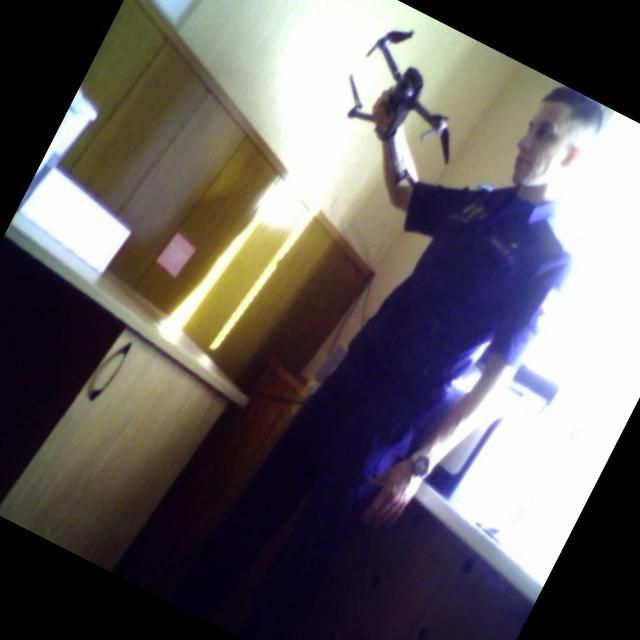drone: (304, 11, 496, 222)
